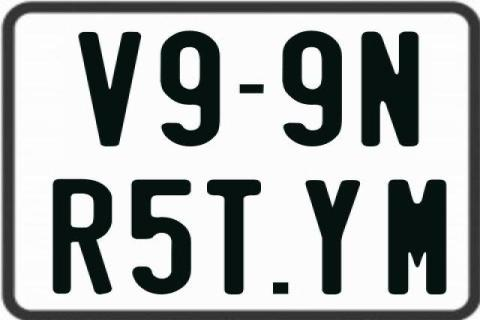0: (160, 29, 224, 149), (280, 28, 346, 144), (129, 180, 190, 297)
M: (387, 178, 446, 294)
N: (359, 32, 421, 146)
R: (53, 178, 118, 294)
T: (207, 180, 261, 295)
V: (78, 32, 141, 146)
Y: (303, 180, 362, 298)
